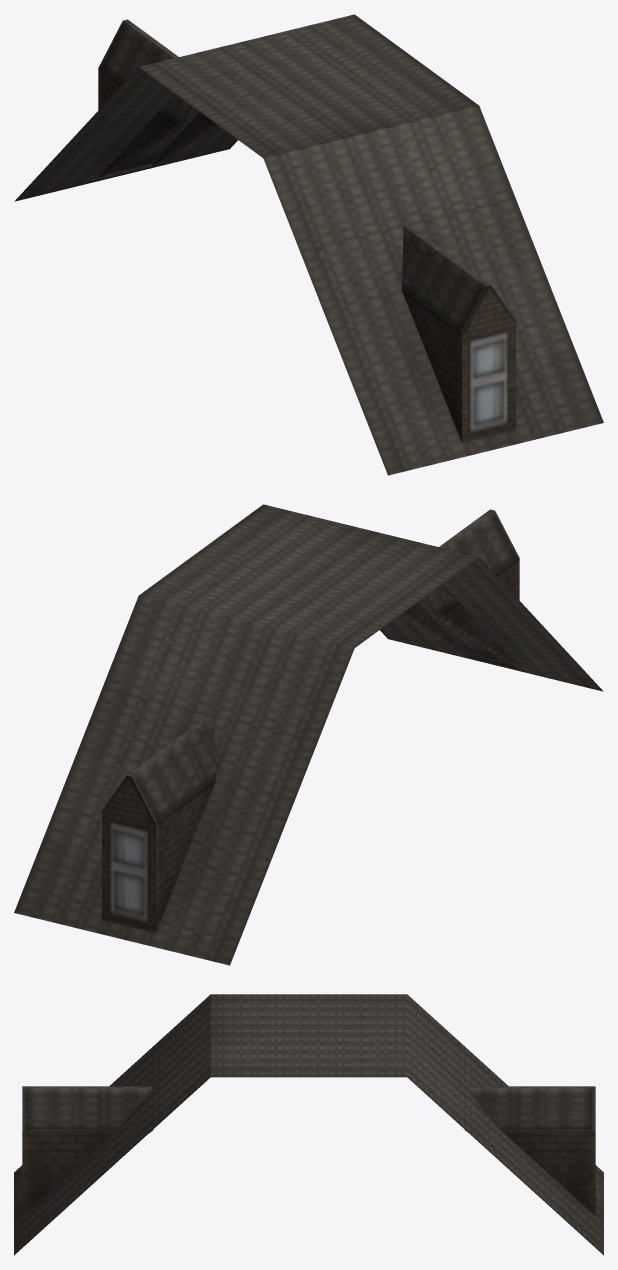
File: B3_RoofCenter.FBX
The picture shows the model from 3 angles, top to bottom: view 1: azimuth 30°, elevation 25°; view 2: azimuth 150°, elevation 25°; view 3: azimuth 270°, elevation 25°; orthographic projection. The views are drawn at different scales.
Visible parts, largest first — view 1: B3_RoofCenter; view 2: B3_RoofCenter; view 3: B3_RoofCenter.
Boxes of the visible parts, bbox=[...] form: B3_RoofCenter: bbox=[14, 14, 603, 475]; B3_RoofCenter: bbox=[14, 504, 603, 965]; B3_RoofCenter: bbox=[14, 994, 603, 1255].
Size of the model in its own units: 4 by 4 by 12.
